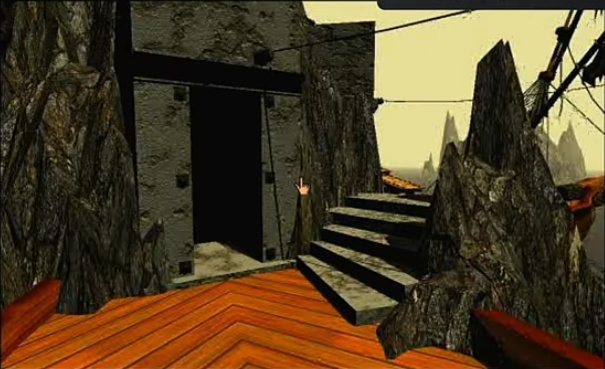Pointer: (292, 175, 314, 196)
